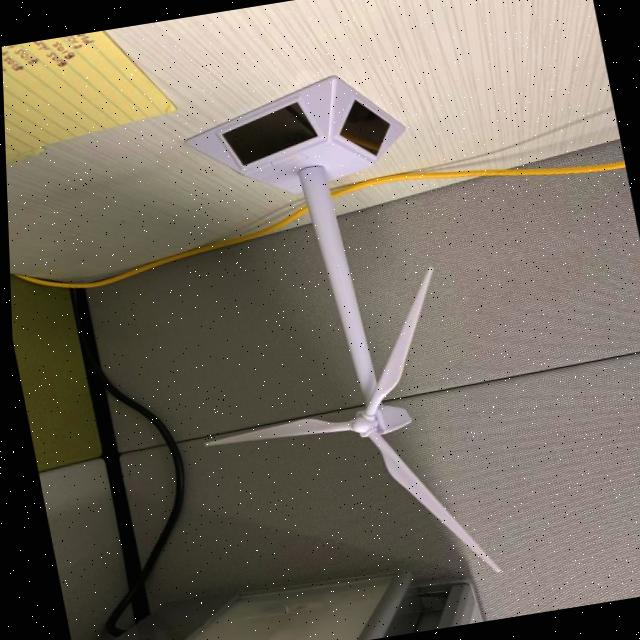solid-blade: (367, 435, 494, 572), (364, 267, 430, 411), (201, 418, 347, 447)
